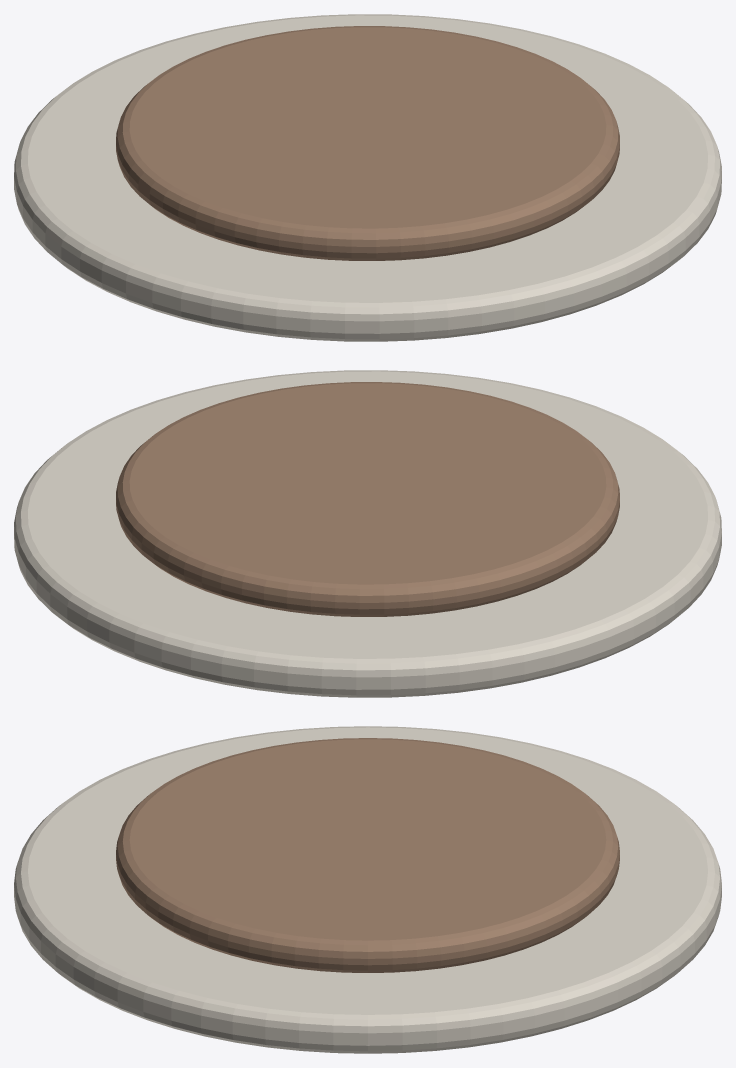
File: cafe-dessert-plate-01.glb
3 views of the same model, one above another, from view 1: azimuth 30°, elevation 25°; view 2: azimuth 150°, elevation 25°; view 3: azimuth 270°, elevation 25° (orthographic).
Visible parts, largest first — view 1: cafe-dessert-plate-01; view 2: cafe-dessert-plate-01; view 3: cafe-dessert-plate-01.
Boxes of the visible parts, x1,y1,x2,y2 form: cafe-dessert-plate-01: (14, 14, 721, 341); cafe-dessert-plate-01: (14, 370, 721, 697); cafe-dessert-plate-01: (14, 726, 721, 1053).
Size of the model in its own units: 0.205 by 0.028 by 0.205.
